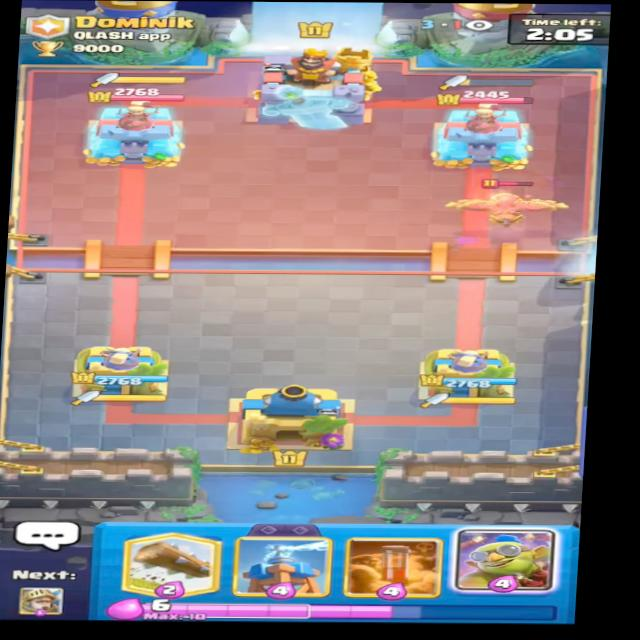Pheonix: (442, 175, 577, 229)
